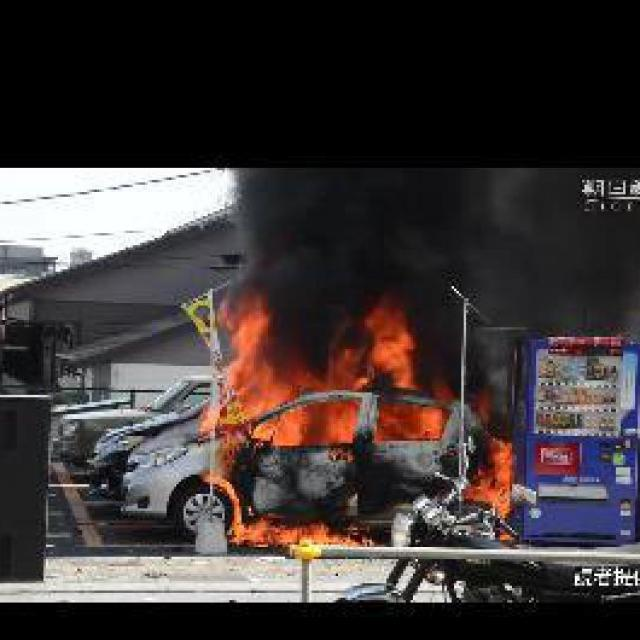fire: (193, 306, 524, 560)
smoke: (212, 167, 640, 363)
